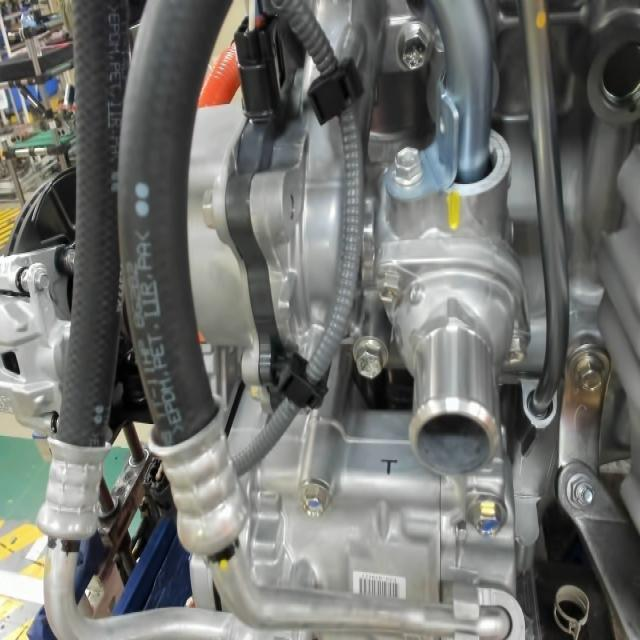Compressor-T: (376, 451, 401, 482)
